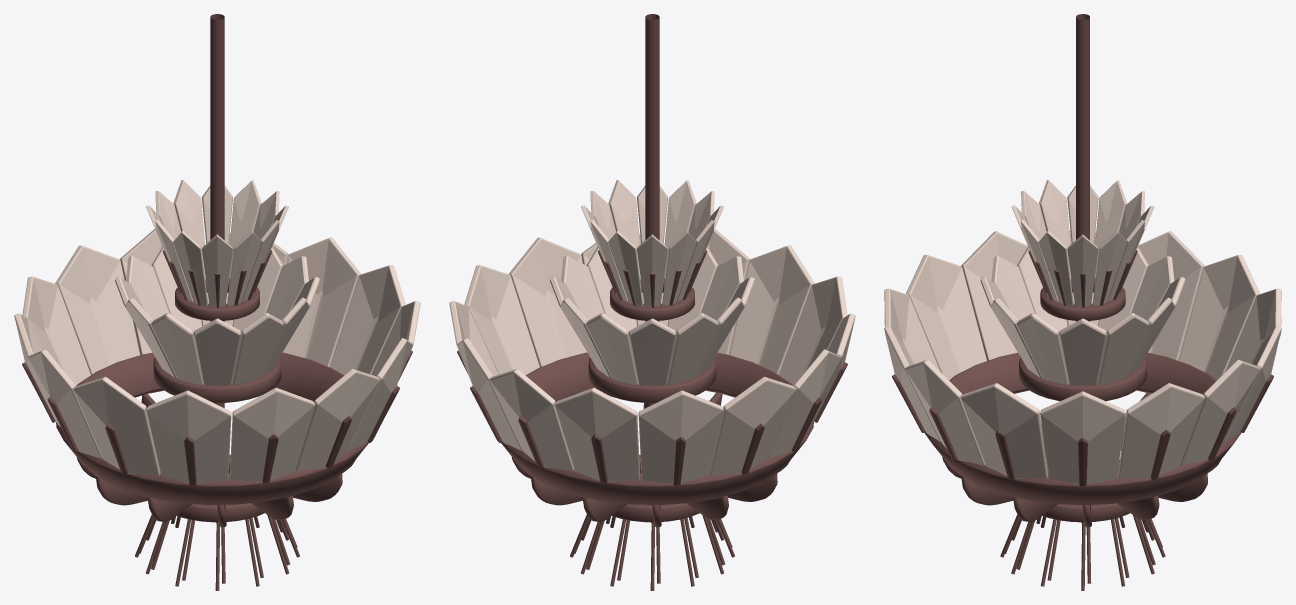
Rendered from luigi_chandelier.fbx.
3 renders of one model, left to right at view 1: azimuth 30°, elevation 25°; view 2: azimuth 150°, elevation 25°; view 3: azimuth 270°, elevation 25°, orthographic.
Visible parts, largest first — view 1: Cylinder; view 2: Cylinder; view 3: Cylinder.
Boxes of the visible parts, left/top/right/bottom form: Cylinder: left=14, top=14, right=420, bottom=590; Cylinder: left=449, top=14, right=855, bottom=590; Cylinder: left=884, top=14, right=1281, bottom=590.
Size of the model in its own units: 632 by 924 by 616.
